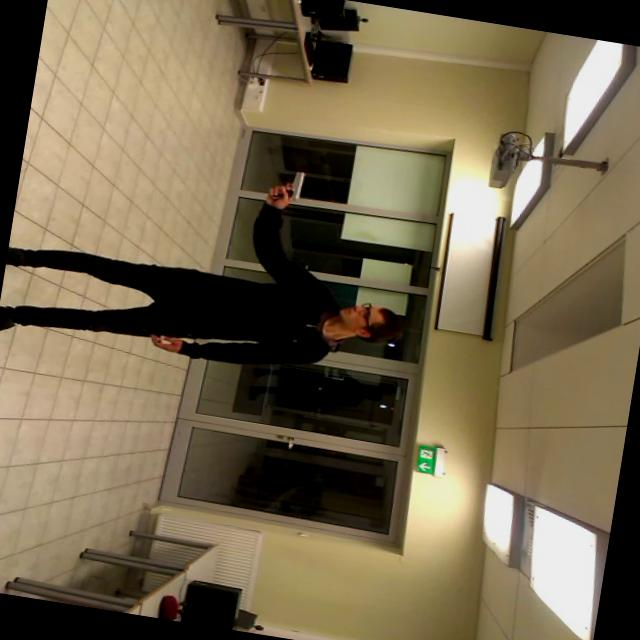handgun: (257, 162, 327, 214)
